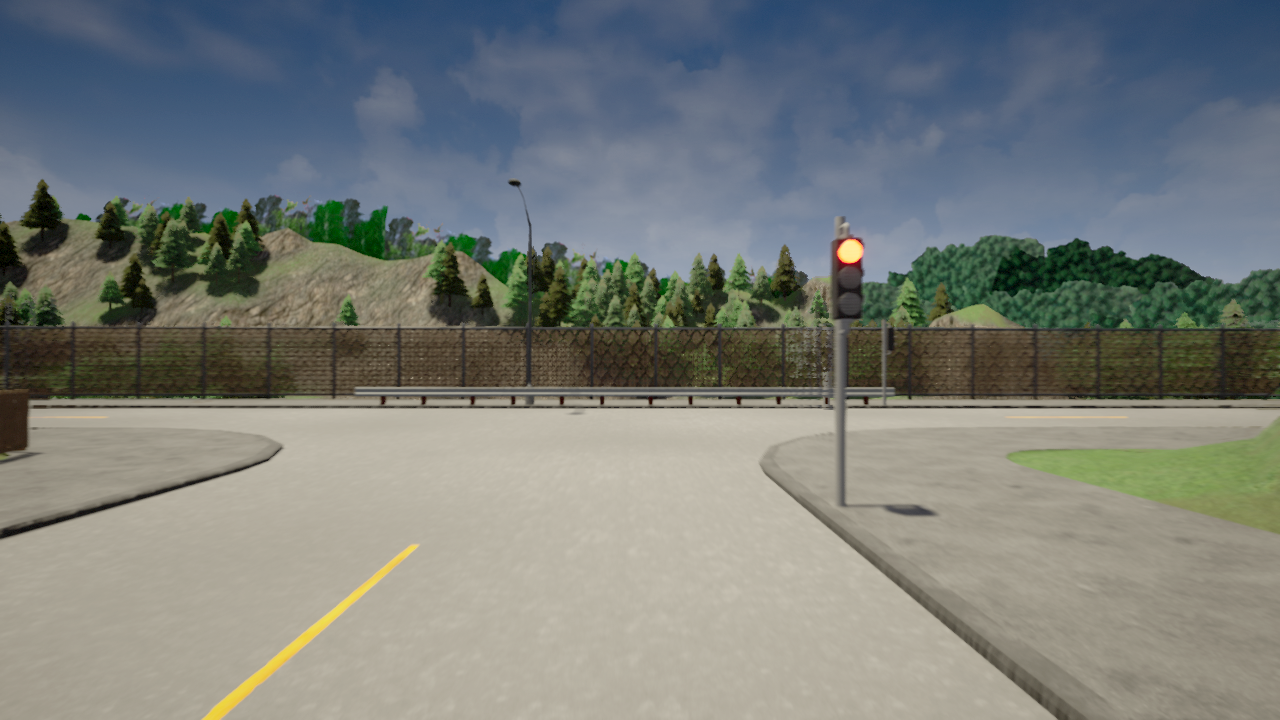red: (828, 235, 865, 323)
